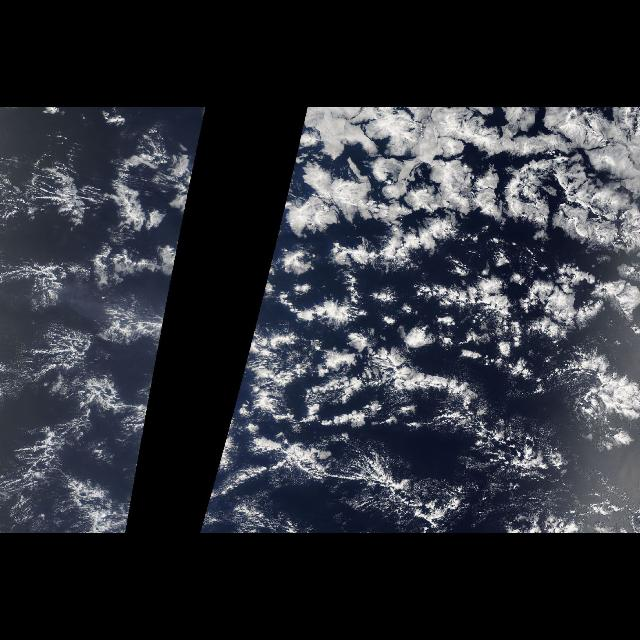Flower: (208, 108, 634, 500), (7, 111, 205, 499)
